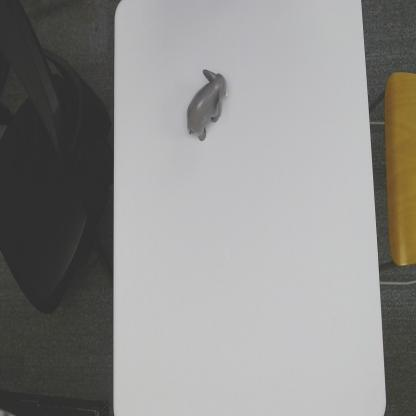Elephant: (185, 65, 229, 144)
